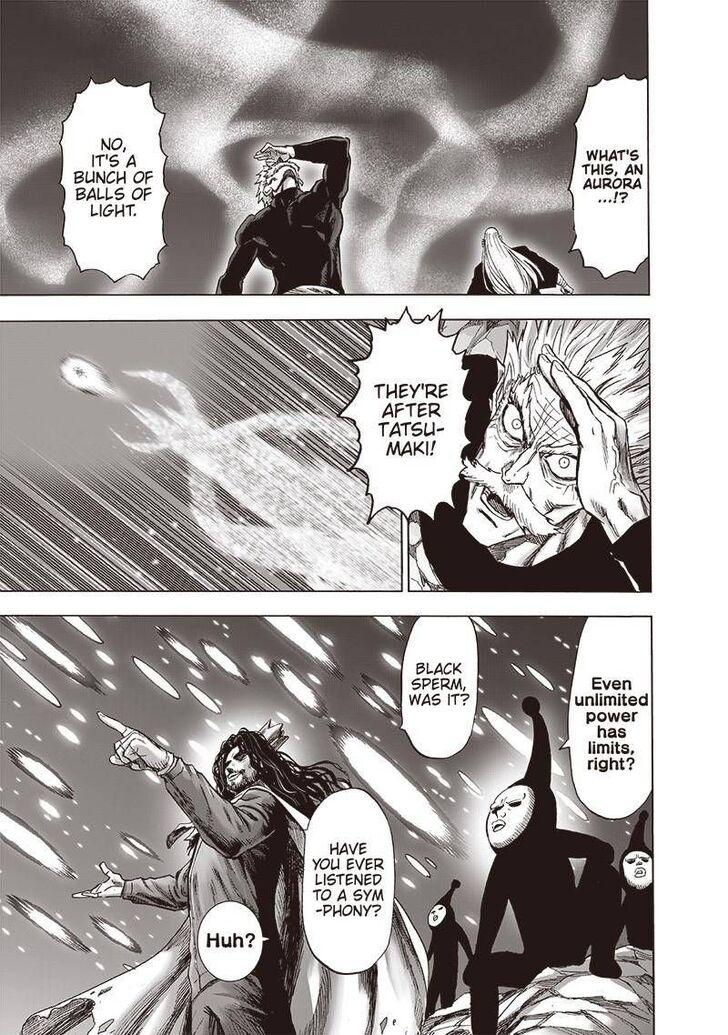Bubble: (336, 305, 473, 526), (58, 76, 171, 283), (566, 613, 654, 821), (302, 786, 396, 976), (568, 70, 651, 281), (399, 613, 480, 760), (195, 899, 265, 984)
